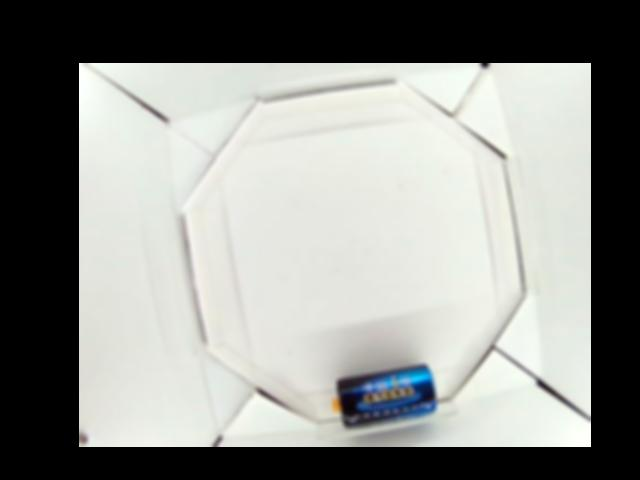Battery: (333, 362, 437, 427)
